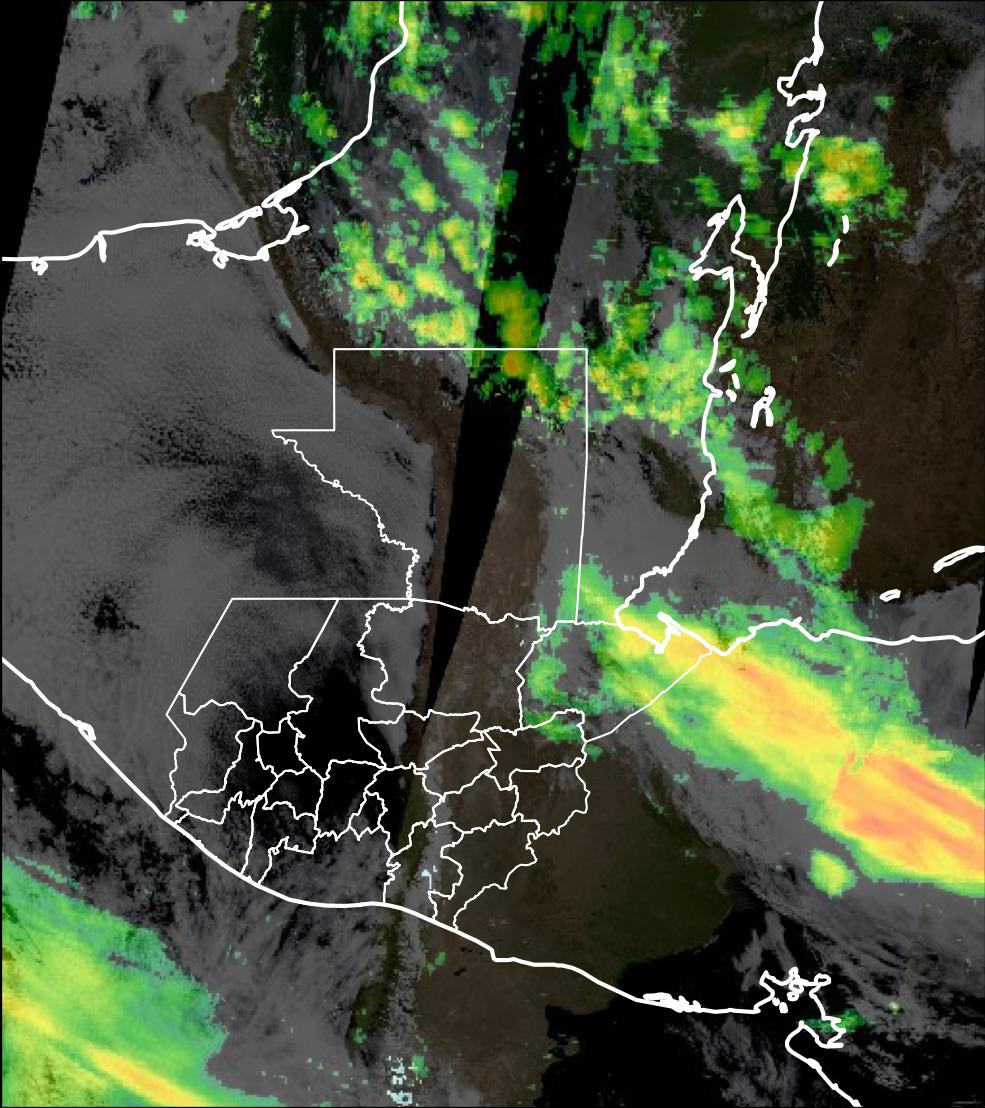precipitacion: (842, 723, 985, 912)
